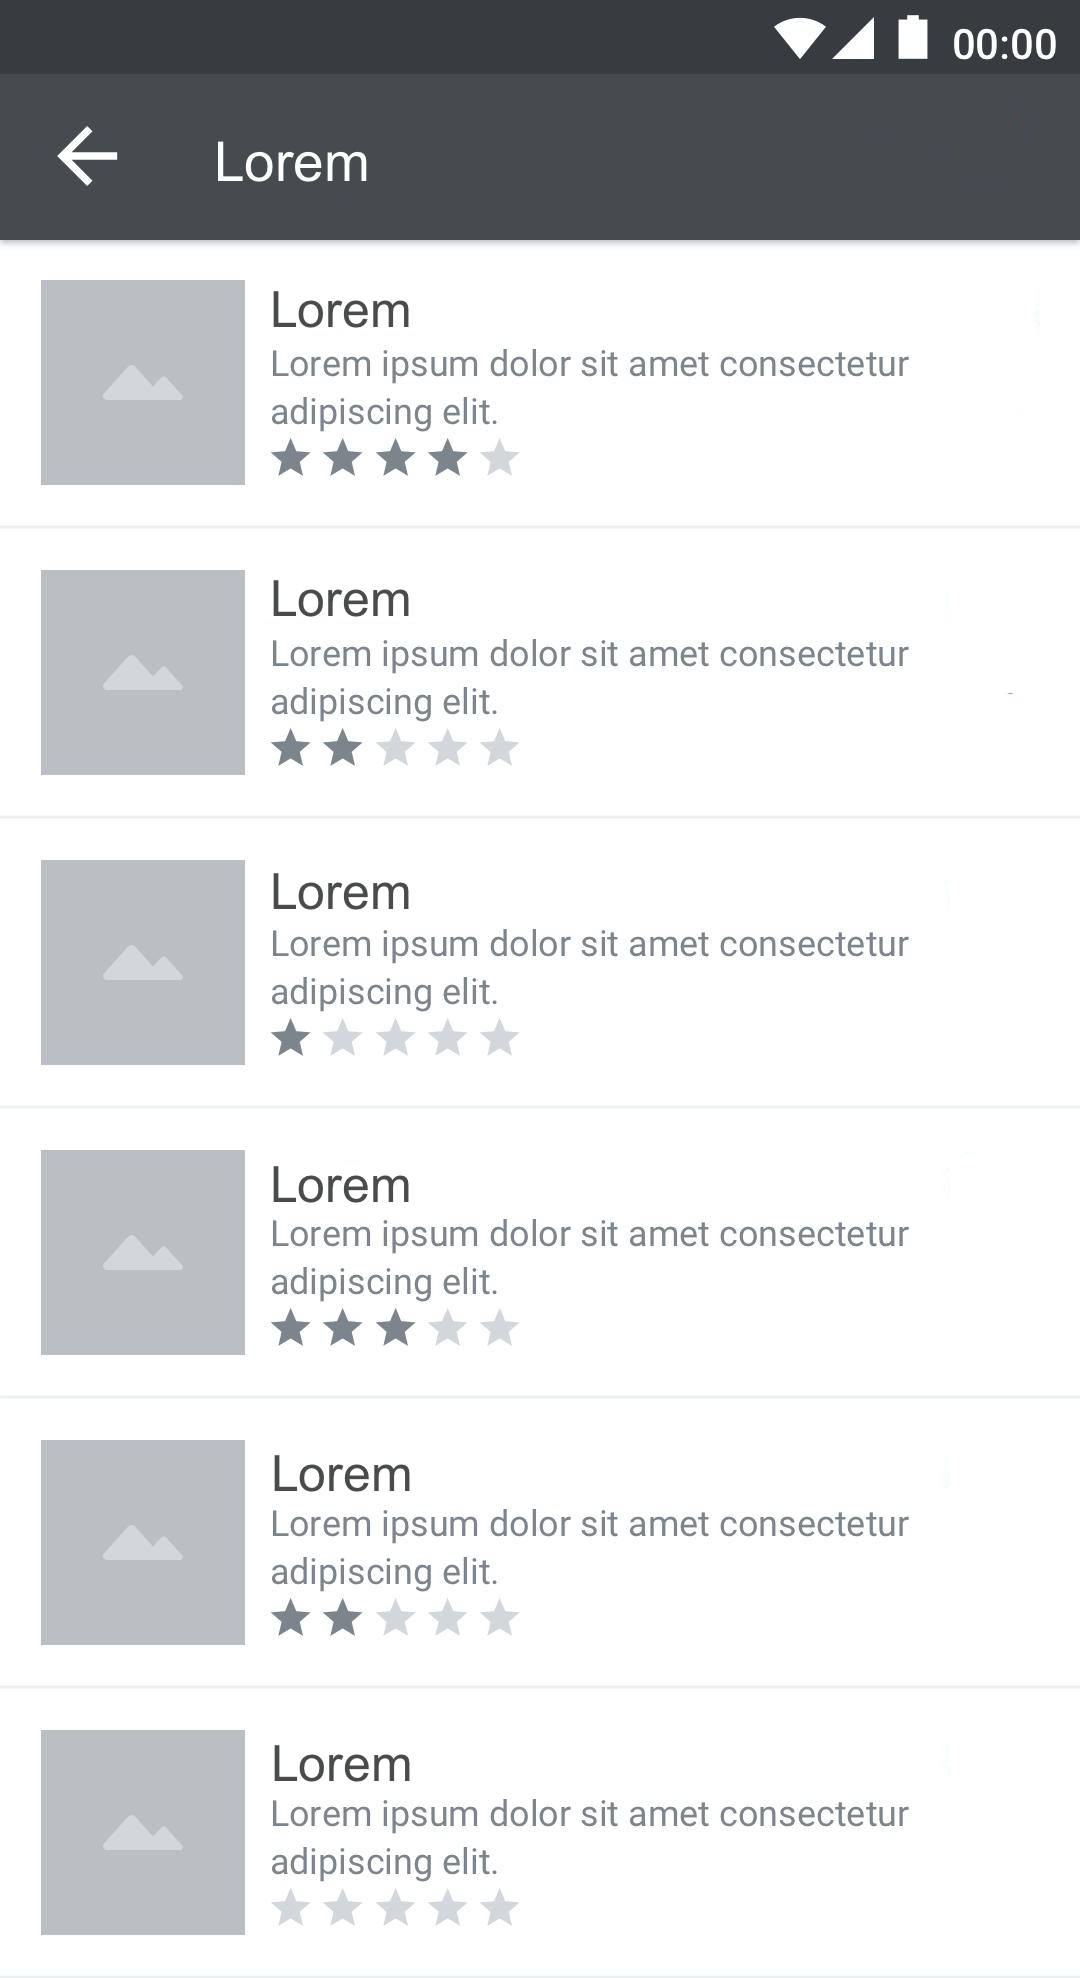Icon: (270, 1017, 521, 1058), (270, 1596, 520, 1638), (270, 1888, 521, 1927), (271, 728, 521, 768), (273, 439, 520, 479), (271, 1309, 519, 1347), (56, 126, 118, 187)
Image: (41, 860, 247, 1066), (41, 280, 246, 487), (41, 570, 246, 776), (41, 1150, 246, 1356), (43, 1440, 247, 1646), (41, 1729, 246, 1935)
Text: (273, 1797, 908, 1884), (270, 1509, 910, 1593), (271, 350, 908, 433), (273, 639, 910, 723), (273, 1219, 910, 1303), (270, 929, 908, 1012), (218, 141, 368, 183), (273, 580, 411, 619), (273, 1164, 410, 1204), (273, 291, 410, 330), (273, 872, 410, 911), (274, 1744, 411, 1783), (273, 1456, 411, 1493)
UpperTaskBar: (1, 1, 1080, 74)
